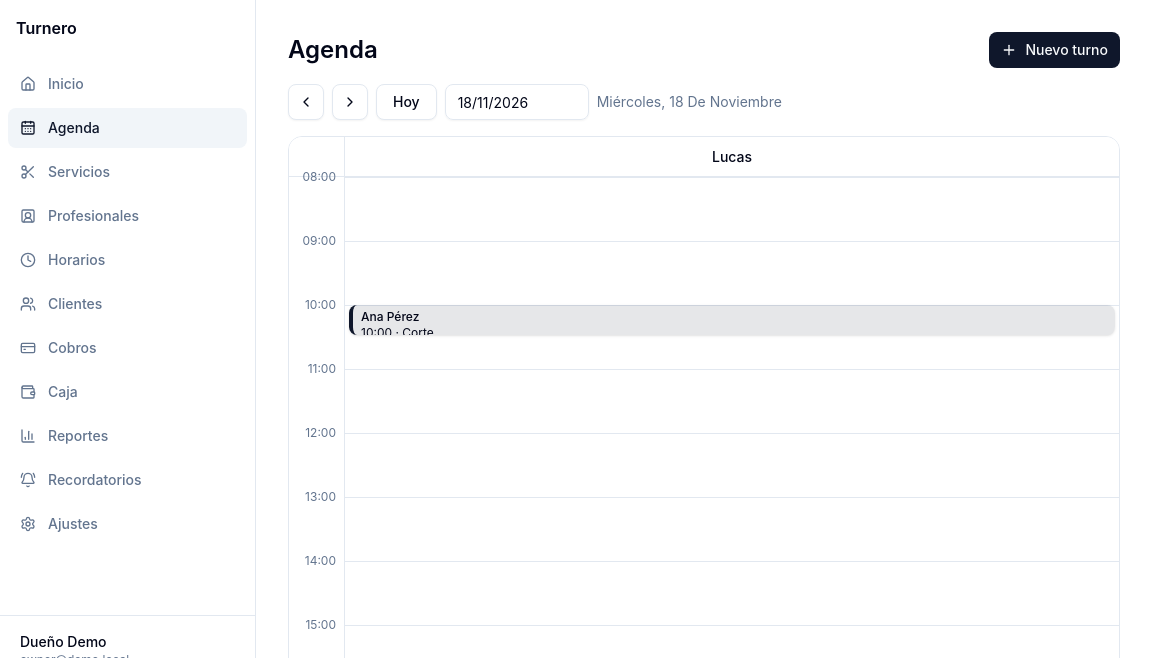
Test case: appointment payments › lists payments and shows the paid state with no collect form once settled
Click the button "Ana Pérez 10:00 · Corte". click: click(390, 316)
box: x1=349 y1=305 x2=1115 y2=335
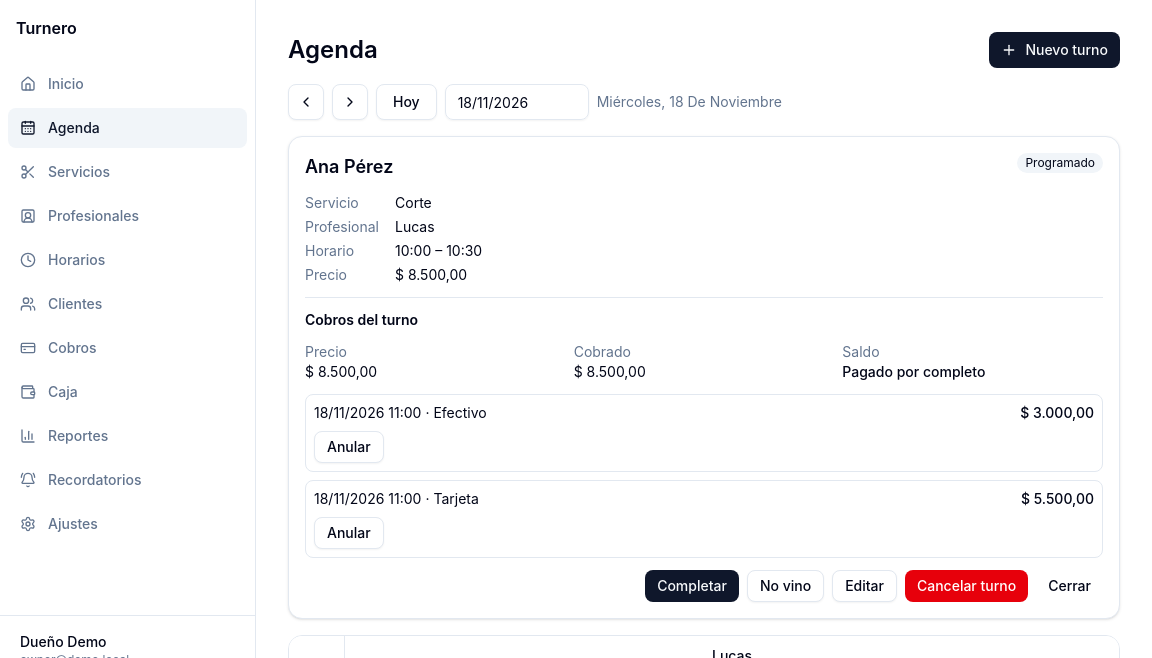
Check: the text "Pagado por completo" is shown, box x1=842 y1=363 x2=985 y2=380
Check: the text "18/11/2026 11:00 · Tarjeta" is shown, box x1=314 y1=489 x2=479 y2=509
